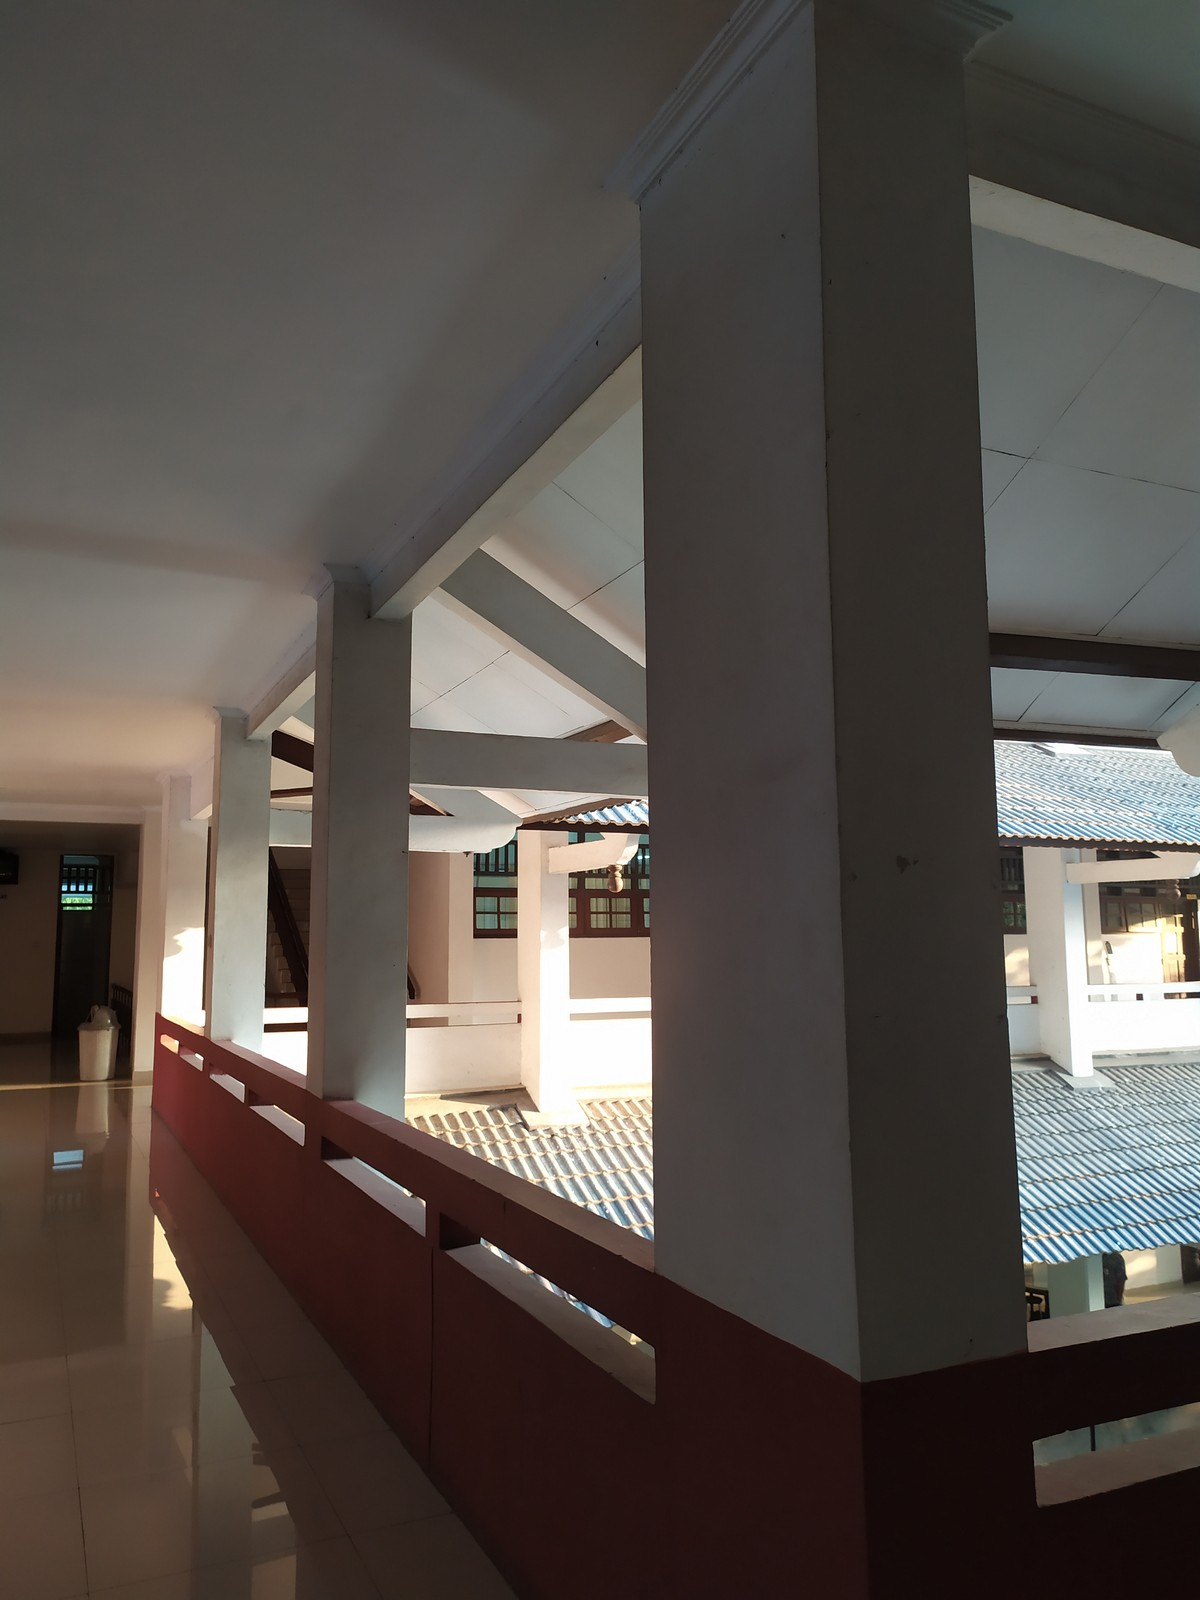concrete beam: (398, 717, 648, 801), (261, 801, 320, 853)
concrete column: (618, 24, 1051, 1584), (303, 548, 422, 1136), (199, 700, 277, 1051)
